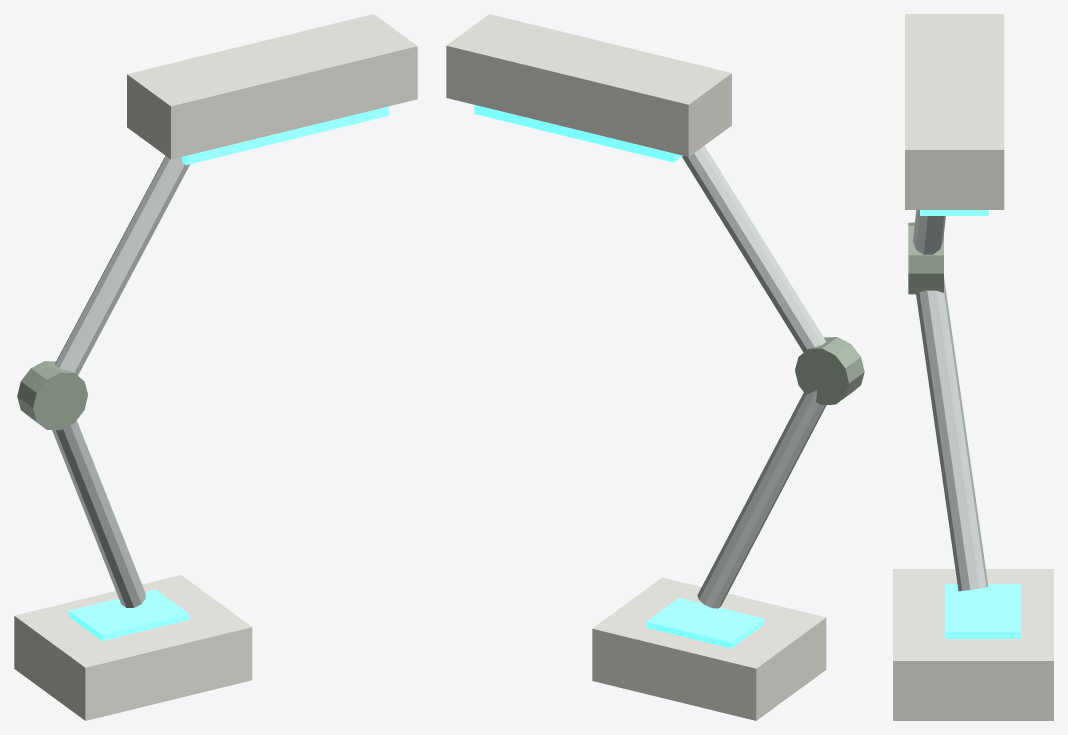
File: s7-e0e1-lt01-task-lamp.glb
3 renders of one model, left to right at view 1: azimuth 30°, elevation 25°; view 2: azimuth 150°, elevation 25°; view 3: azimuth 270°, elevation 25°, orthographic. The views are drawn at different scales.
Visible parts, largest first — view 1: task-lamp-lighthead-005, lamp-base-000, articulated-lamp-arm-003, articulated-lamp-arm-002, joint-004, lamp-base-indicator-001, lamp-emissive-lens-006; view 2: task-lamp-lighthead-005, lamp-base-000, articulated-lamp-arm-002, articulated-lamp-arm-003, lamp-base-indicator-001, joint-004, lamp-emissive-lens-006; view 3: lamp-base-000, task-lamp-lighthead-005, articulated-lamp-arm-002, lamp-base-indicator-001, joint-004, articulated-lamp-arm-003, lamp-emissive-lens-006.
Boxes of the visible parts, bbox=[...] form: task-lamp-lighthead-005: bbox=[127, 14, 417, 159]; lamp-base-000: bbox=[14, 575, 252, 720]; articulated-lamp-arm-003: bbox=[55, 155, 189, 375]; articulated-lamp-arm-002: bbox=[52, 420, 145, 607]; joint-004: bbox=[17, 361, 87, 430]; lamp-base-indicator-001: bbox=[69, 589, 189, 640]; lamp-emissive-lens-006: bbox=[181, 106, 389, 165]; task-lamp-lighthead-005: bbox=[446, 14, 731, 156]; lamp-base-000: bbox=[592, 577, 826, 720]; articulated-lamp-arm-002: bbox=[697, 390, 826, 608]; articulated-lamp-arm-003: bbox=[682, 146, 825, 352]; lamp-base-indicator-001: bbox=[646, 597, 764, 648]; joint-004: bbox=[795, 337, 864, 405]; lamp-emissive-lens-006: bbox=[474, 105, 682, 162]; lamp-base-000: bbox=[893, 569, 1053, 720]; task-lamp-lighthead-005: bbox=[905, 14, 1004, 209]; articulated-lamp-arm-002: bbox=[916, 278, 988, 591]; lamp-base-indicator-001: bbox=[945, 584, 1020, 638]; joint-004: bbox=[908, 222, 943, 294]; articulated-lamp-arm-003: bbox=[913, 210, 945, 254]; lamp-emissive-lens-006: bbox=[920, 210, 988, 215].
Bounding box in the file's own units: 0.528 × 0.775 × 0.17.
